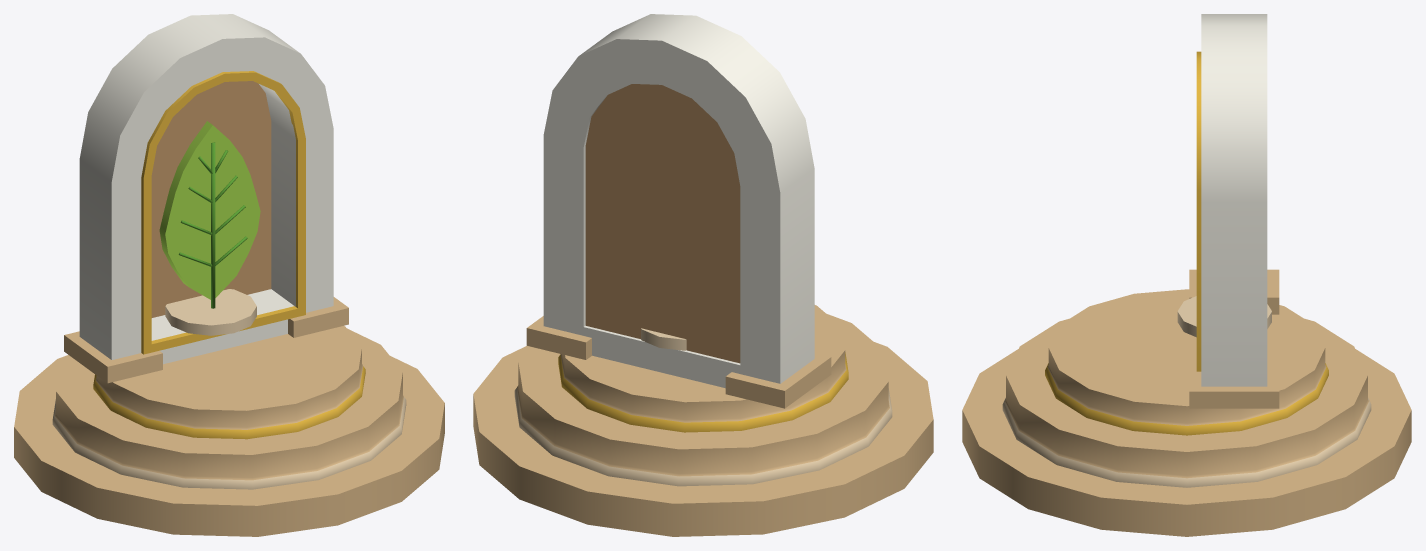
File: rooftop-core.lod1.glb
3 views of the same model, side by side, from view 1: azimuth 30°, elevation 25°; view 2: azimuth 150°, elevation 25°; view 3: azimuth 270°, elevation 25° (orthographic). The views are drawn at different scales.
Visible parts, largest first — view 1: rooftop-core_lod1; view 2: rooftop-core_lod1; view 3: rooftop-core_lod1.
Part boxes in pixels (box(x1,y1,x2,y2)): rooftop-core_lod1: box(14, 14, 444, 536); rooftop-core_lod1: box(473, 14, 933, 536); rooftop-core_lod1: box(962, 14, 1411, 536).
Bounding box in the file's own units: 1.9 × 1.94 × 1.9.
